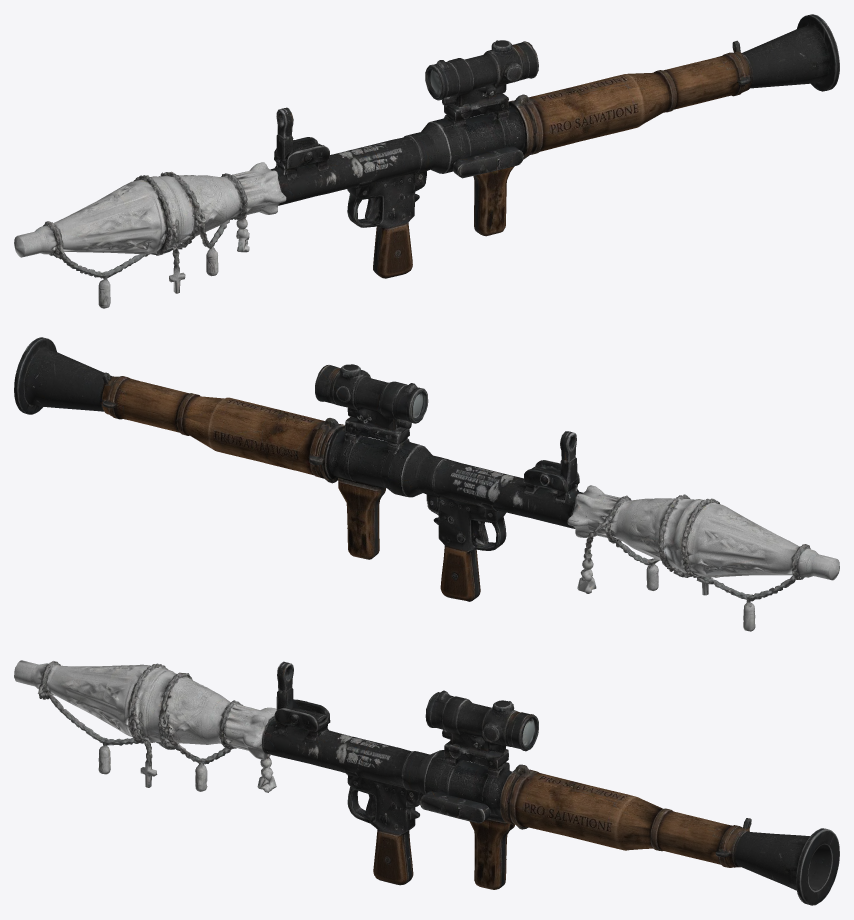
3 views of the same model, one above another, from view 1: azimuth 30°, elevation 25°; view 2: azimuth 150°, elevation 25°; view 3: azimuth 330°, elevation 25° (orthographic).
Parts seen in each view (by area): view 1: body, warhead; view 2: body, warhead; view 3: body, warhead.
Part boxes in pixels (<box>): body: <box>274,14,839,278</box>; warhead: <box>14,162,294,308</box>; body: <box>14,337,579,601</box>; warhead: <box>563,485,839,631</box>; body: <box>263,661,839,905</box>; warhead: <box>14,660,278,792</box>.
Size of the model in its own units: 1.91 by 0.4629 by 0.1729.
1 material, 1 textured.
